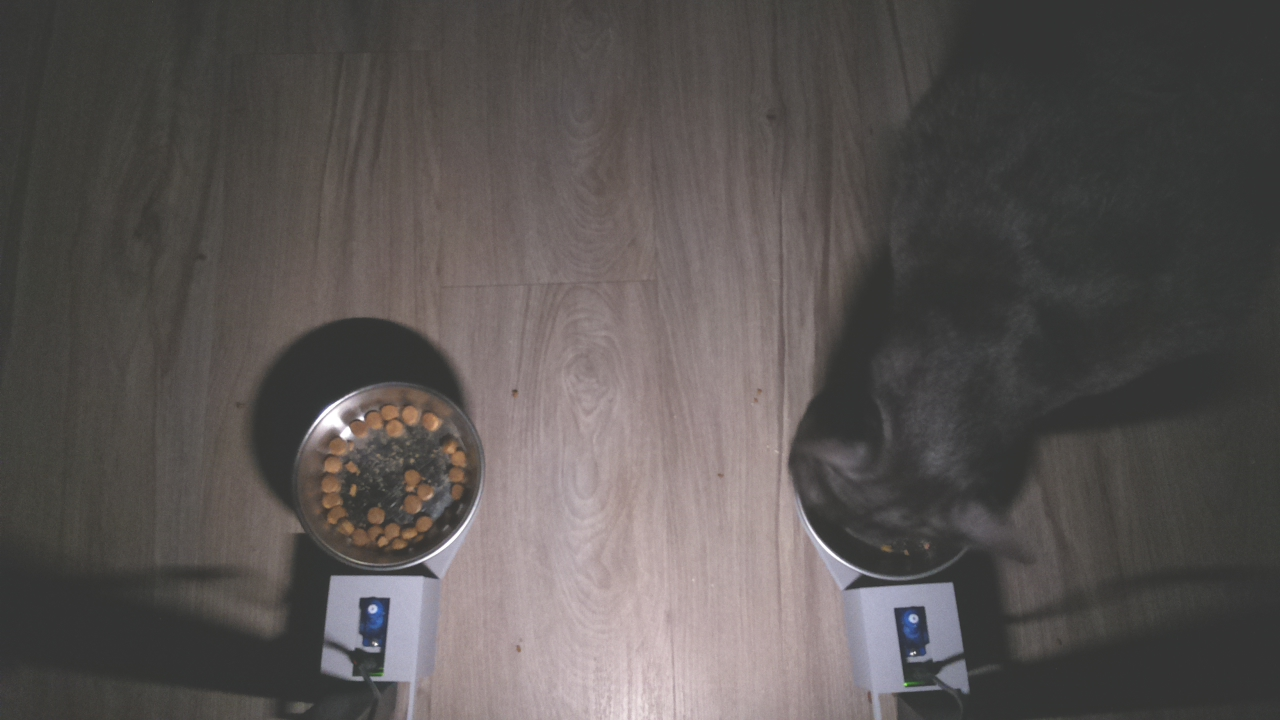open_bowl: (290, 369, 491, 575)
saki_eating: (783, 358, 1039, 578)
